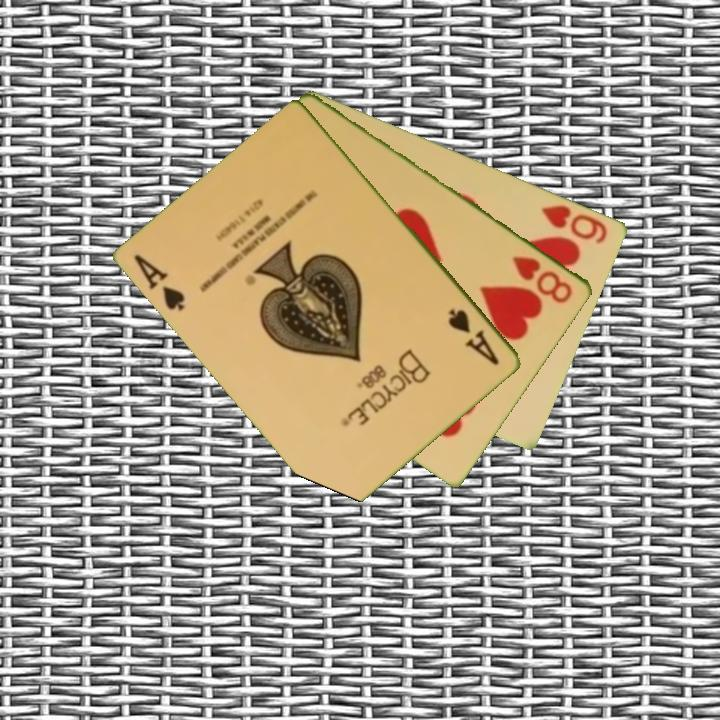6h: (538, 201, 611, 247)
8h: (509, 252, 576, 307)
As: (131, 250, 189, 315), (445, 305, 503, 369)
